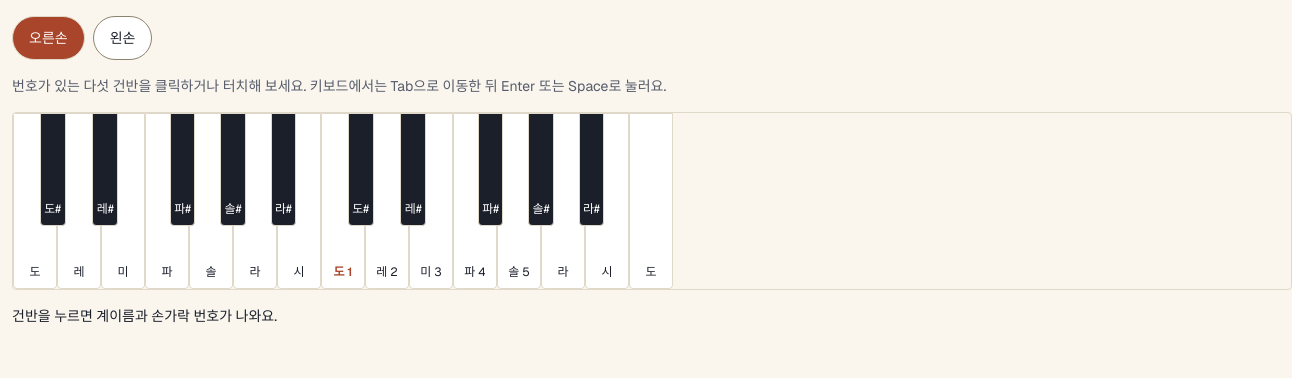
Test: keeps finger text working with throw audio
This screenshot has width=1292, height=378.
Click the button named "오른손 레 (4옥타브), 손가락 2 검지" at (387, 201), box 365,113 -> 409,289
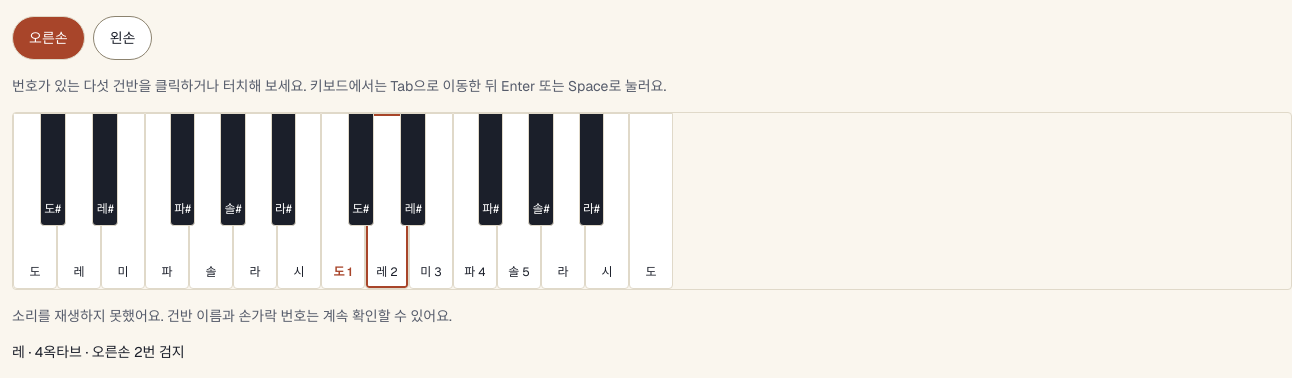
Expected: the message named "누른 건반" reads "레 · 4옥타브 · 오른손 2번 검지", 12,343 -> 185,361
Expected: the text "소리를 재생하지 못했어요. 건반 이름과 손가락 번호는 계속 확인할 수 있어요." is shown, 12,307 -> 452,325
